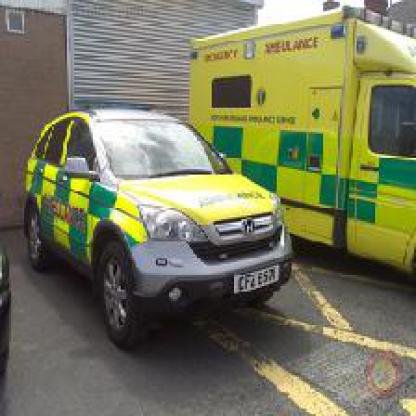emergency: (20, 89, 299, 353), (182, 9, 414, 297)
